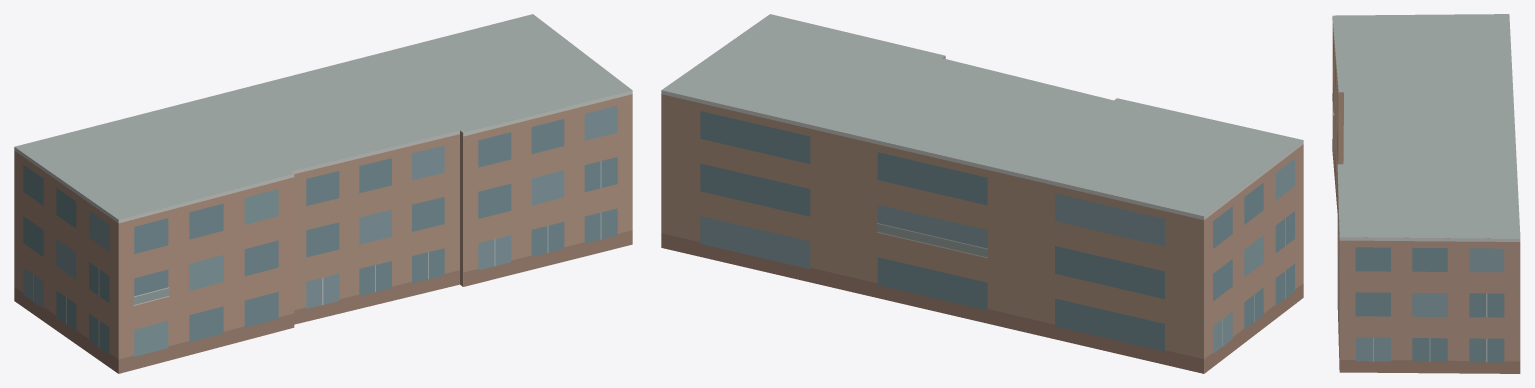
Rendered from survey-upis-32934843.glb.
The picture shows the model from 3 angles, left to right: view 1: azimuth 30°, elevation 25°; view 2: azimuth 150°, elevation 25°; view 3: azimuth 270°, elevation 25°; orthographic projection. The views are drawn at different scales.
Parts seen in each view (by area): view 1: survey-upis-32934843.tmp; view 2: survey-upis-32934843.tmp; view 3: survey-upis-32934843.tmp.
Boxes of the visible parts, x1,y1,x2,y2 form: survey-upis-32934843.tmp: [14, 14, 632, 373]; survey-upis-32934843.tmp: [661, 14, 1303, 373]; survey-upis-32934843.tmp: [1332, 14, 1520, 373].
Size of the model in its own units: 35.58 by 9.98 by 12.59.
